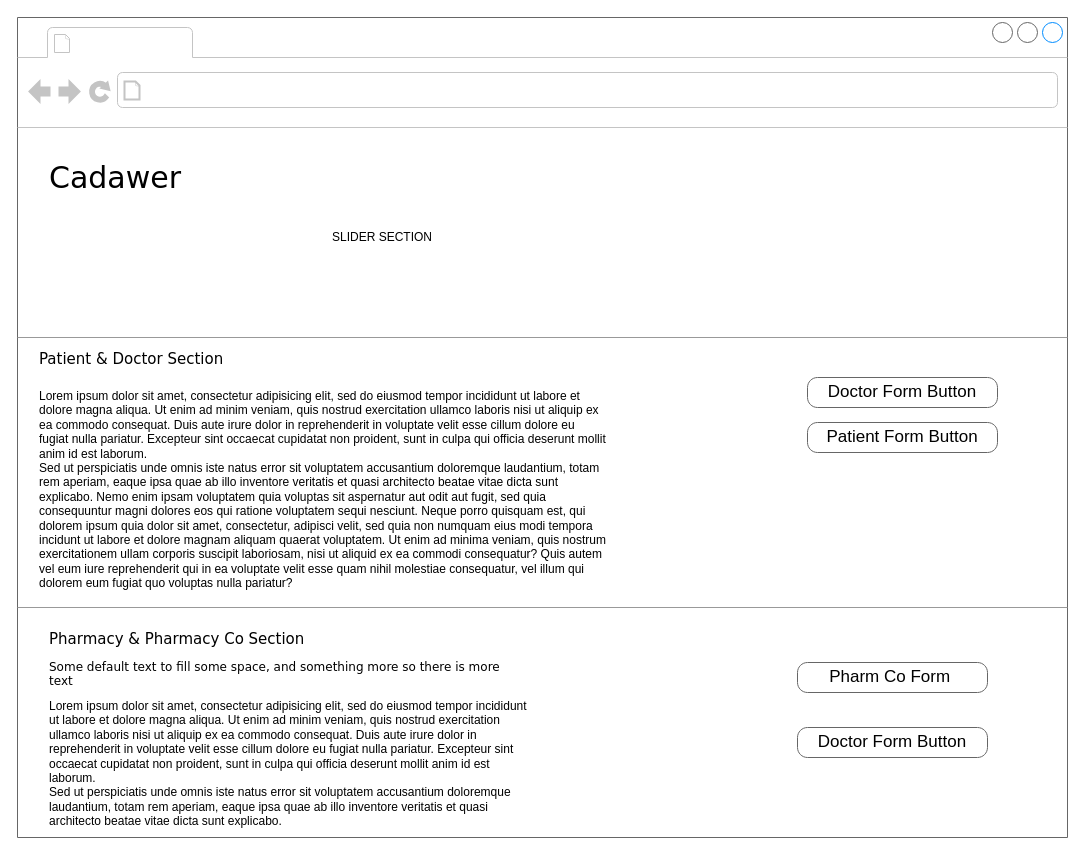
Image size: 1085x855. Some labels were removed from this diagram. Here are the shapes that lost their labels. From the top down, the centre of each, then its label:
At (x=132, y=42): "Page 1".
At (x=272, y=90): "https://www.cadawer.com".
